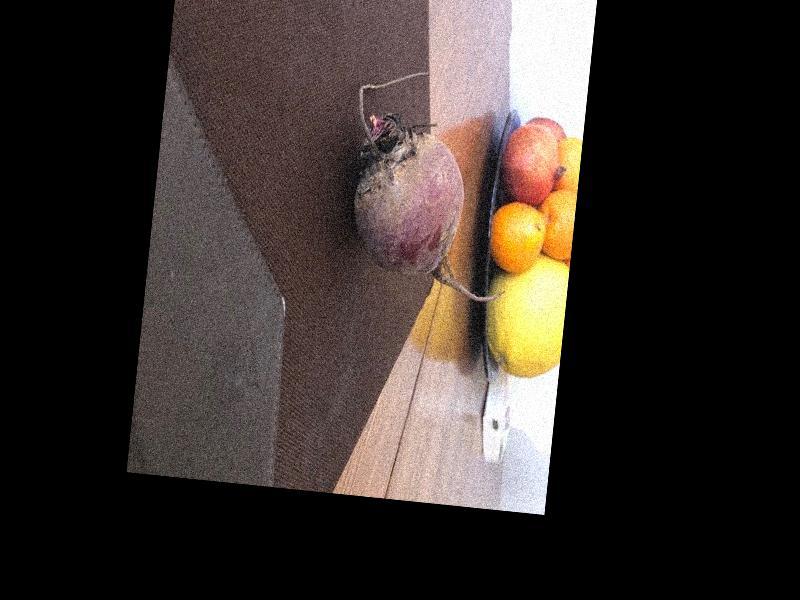Beet: (338, 64, 527, 305)
